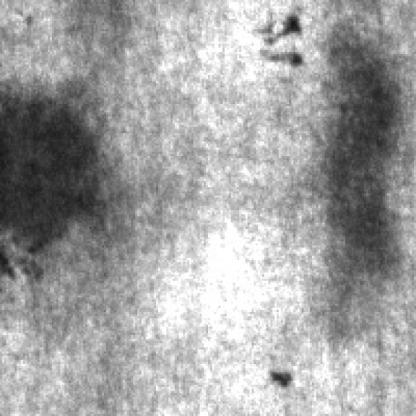patches: (0, 77, 102, 283), (326, 69, 398, 283)
